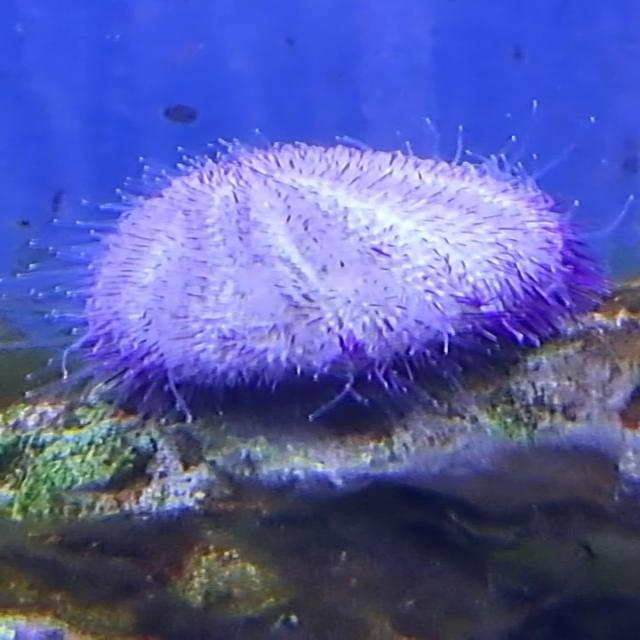Deniz Kestanesi: (30, 121, 608, 435)
